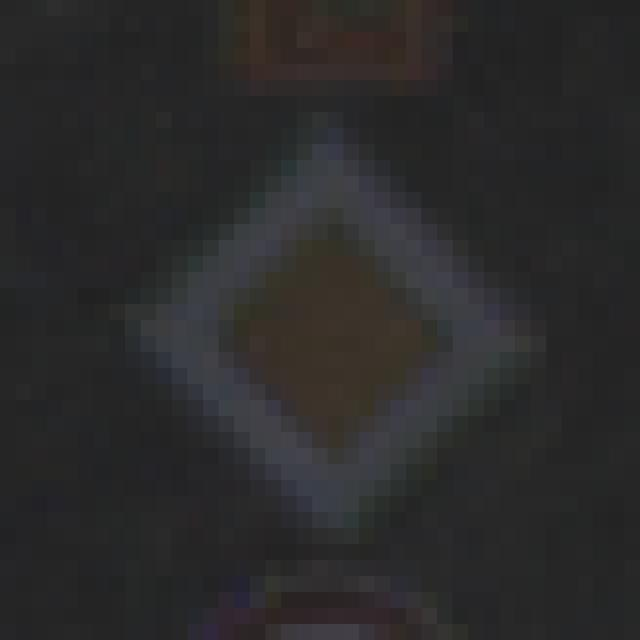Main Road: (95, 81, 563, 561)
